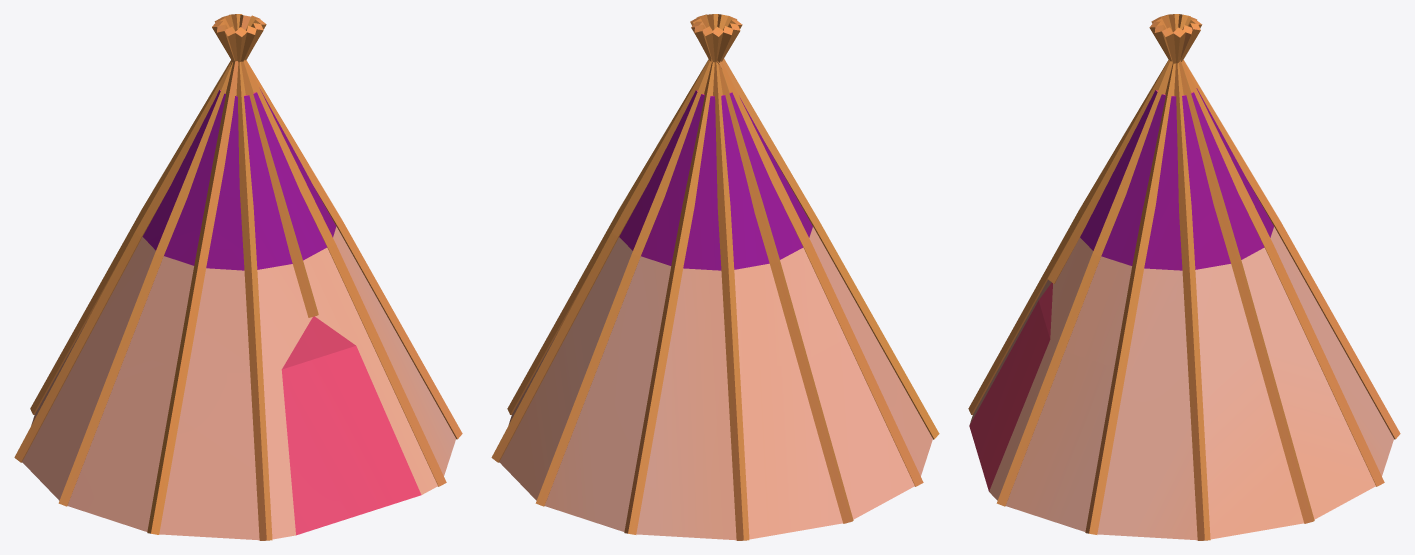
The model's file is palat4.fbx.
3 views of the same model, side by side, from view 1: azimuth 30°, elevation 25°; view 2: azimuth 150°, elevation 25°; view 3: azimuth 270°, elevation 25° (orthographic).
Visible parts, largest first — view 1: Cone.012; view 2: Cone.012; view 3: Cone.012.
Boxes of the visible parts, x1=… form: Cone.012: x1=14, y1=14, x2=462, y2=540; Cone.012: x1=491, y1=14, x2=939, y2=540; Cone.012: x1=968, y1=14, x2=1400, y2=540.
Bounding box in the file's own units: 622 × 659 × 600.
